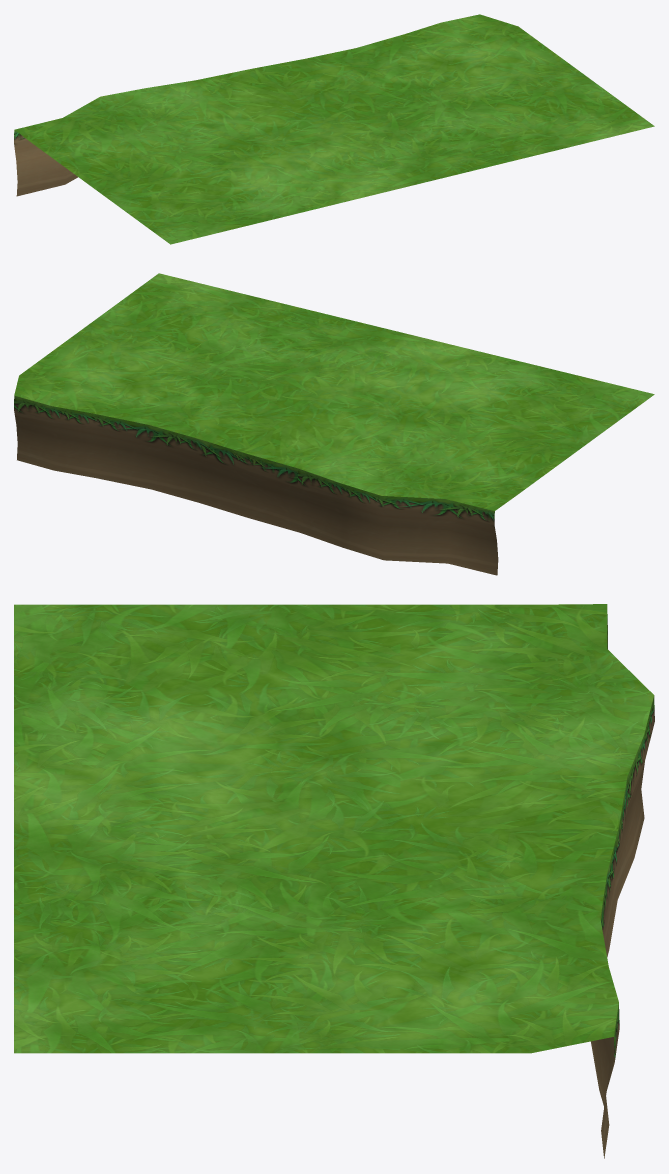
File: hub_tot_plat_01.FBX
3 renders of one model, top to bottom at view 1: azimuth 30°, elevation 25°; view 2: azimuth 150°, elevation 25°; view 3: azimuth 270°, elevation 25°, orthographic. The views are drawn at different scales.
Parts seen in each view (by area): view 1: toturial_plat_01, toturial_plat_01_cliff; view 2: toturial_plat_01, toturial_plat_01_cliff; view 3: toturial_plat_01, toturial_plat_01_cliff.
Part boxes in pixels (bbox=[...]): toturial_plat_01: bbox=[14, 14, 654, 244]; toturial_plat_01_cliff: bbox=[14, 130, 77, 196]; toturial_plat_01: bbox=[14, 273, 654, 510]; toturial_plat_01_cliff: bbox=[14, 395, 498, 575]; toturial_plat_01: bbox=[14, 604, 653, 1053]; toturial_plat_01_cliff: bbox=[591, 614, 654, 1158].
Size of the model in its own units: 3147 by 1901 by 403.
